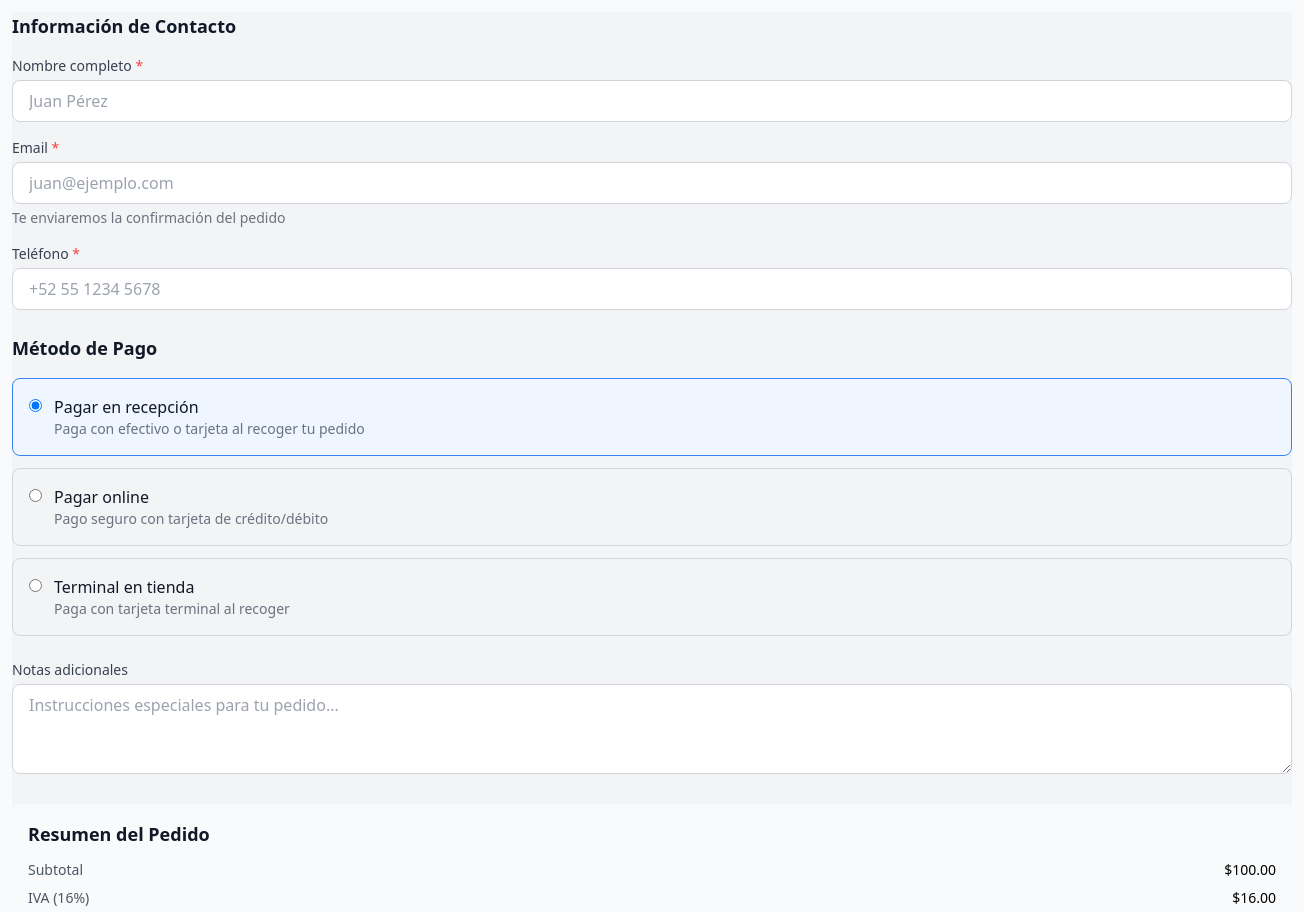
Test case: CheckoutForm › should select card terminal payment method
Click the text "Terminal en tienda Paga con tarjeta terminal al recoger" at (124, 587), box left=12, top=558, right=1292, bottom=636
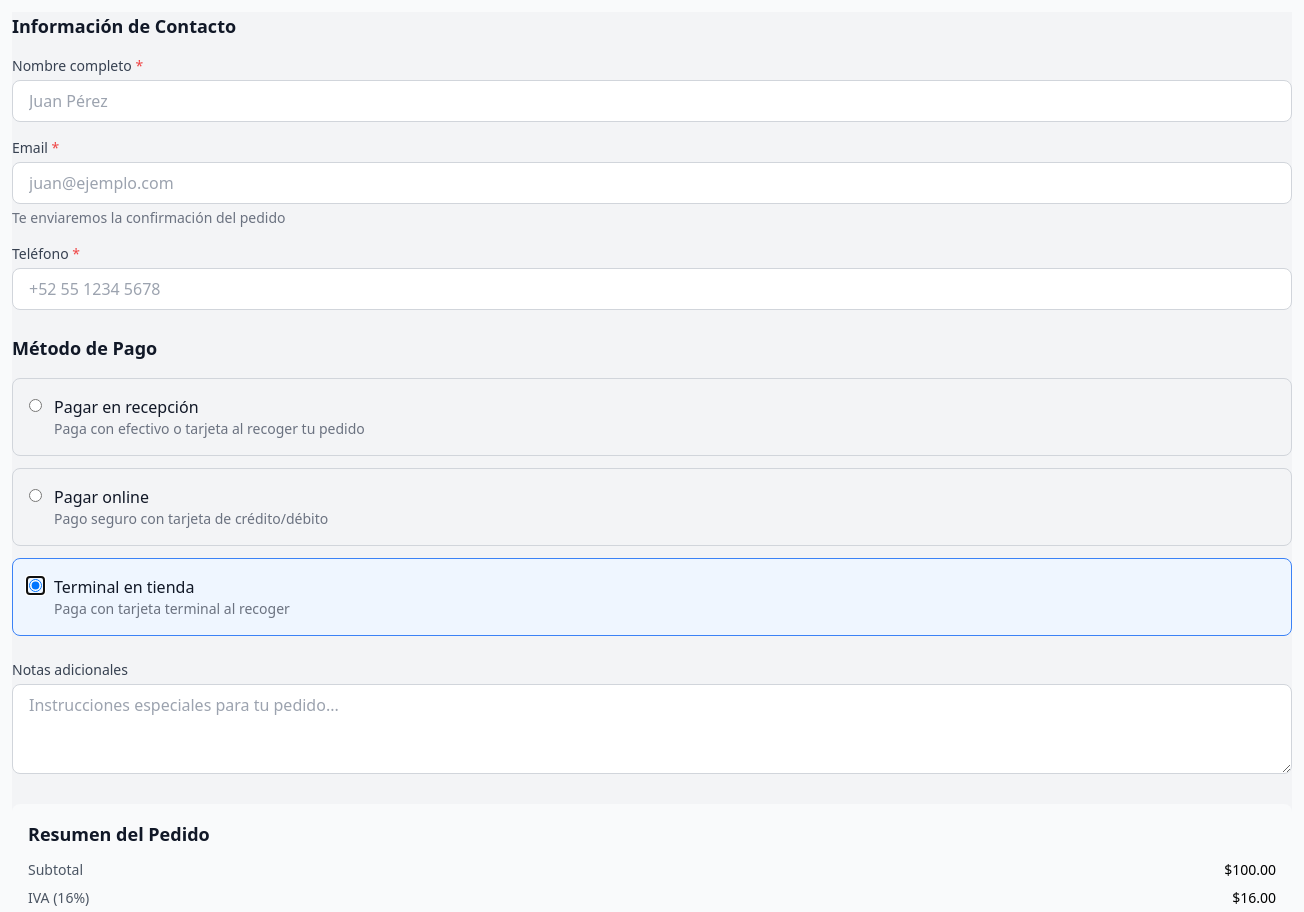
Check: the radio button showing "card_terminal" is checked, box left=29, top=579, right=42, bottom=592
